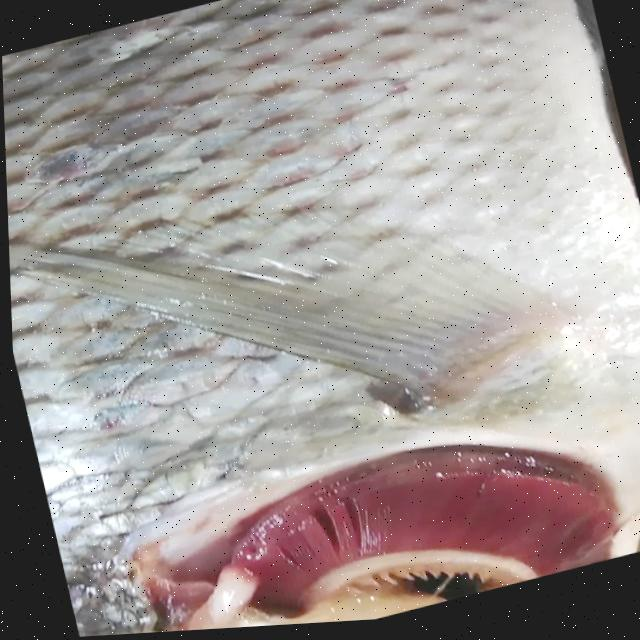Fresh: (123, 390, 640, 635)
